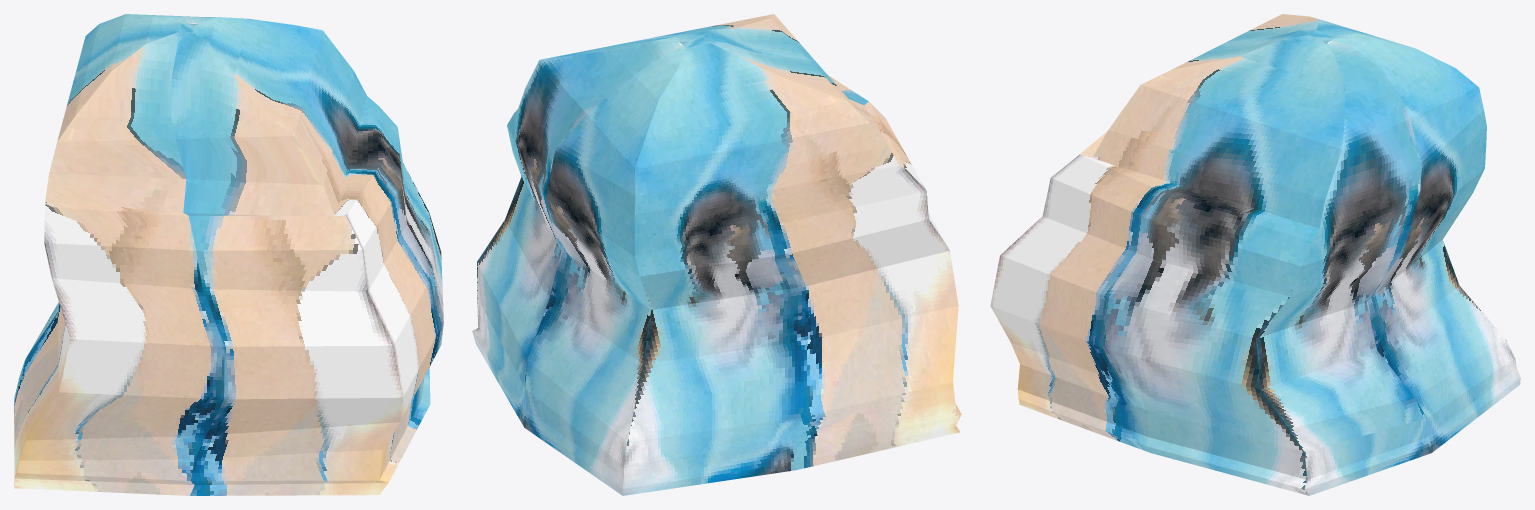
3 views of the same model, side by side, from view 1: azimuth 30°, elevation 25°; view 2: azimuth 150°, elevation 25°; view 3: azimuth 270°, elevation 25° (orthographic). The views are drawn at different scales.
Parts seen in each view (by area): view 1: SPLICE_1; view 2: SPLICE_1; view 3: SPLICE_1.
Boxes of the visible parts, box(x1,y1,x2,y2) form: SPLICE_1: box(14, 14, 443, 495); SPLICE_1: box(472, 14, 961, 495); SPLICE_1: box(990, 14, 1520, 495).
Size of the model in its own units: 2.09 by 1.64 by 2.18.
Materials: 1 (1 with a texture image).
